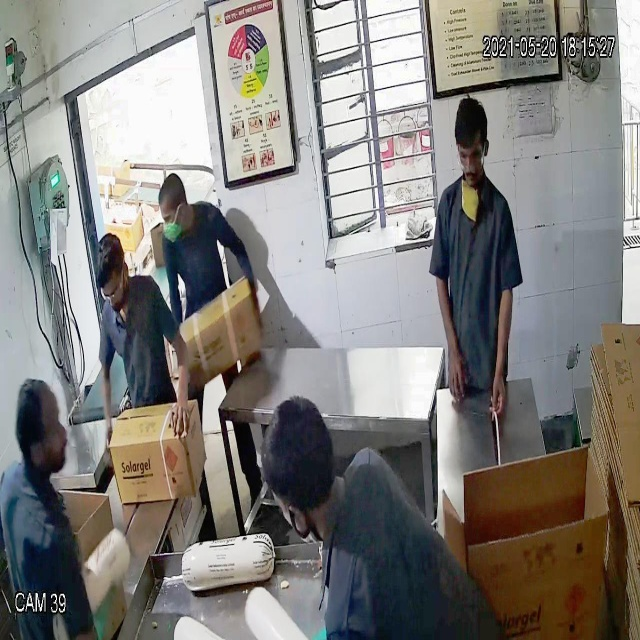Gafas: (457, 140, 488, 174)
